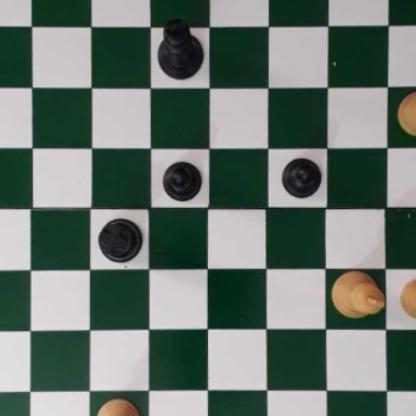black-king: (157, 15, 203, 79)
black-pawn: (160, 160, 203, 202), (280, 156, 322, 198)
black-rook: (97, 217, 143, 261)
white-bishop: (92, 396, 138, 416)
white-king: (331, 269, 386, 320)
white-pawn: (399, 278, 416, 319)
white-rook: (397, 85, 416, 135)
